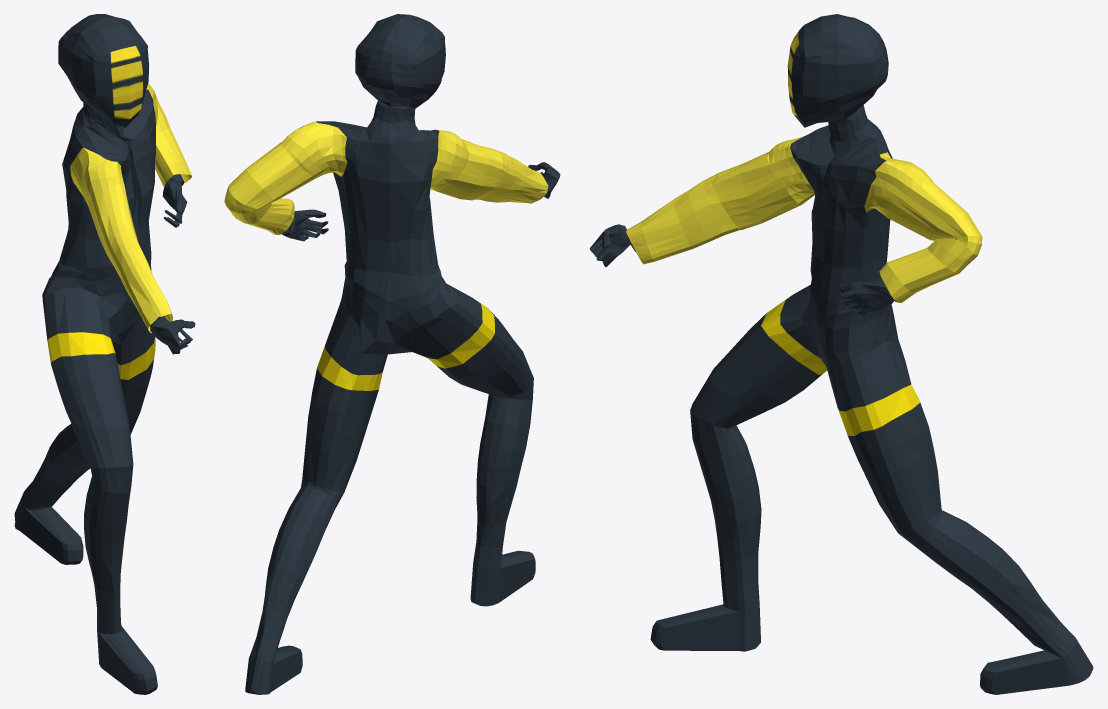
File: Sentry_Attack_000040.obj
3 renders of one model, left to right at view 1: azimuth 30°, elevation 25°; view 2: azimuth 150°, elevation 25°; view 3: azimuth 270°, elevation 25°, orthographic. The views are drawn at different scales.
Parts seen in each view (by area): view 1: Cube; view 2: Cube; view 3: Cube.
Boxes of the visible parts, left/top/right/bottom form: Cube: left=14, top=14, right=195, bottom=694; Cube: left=224, top=14, right=560, bottom=694; Cube: left=589, top=14, right=1093, bottom=694.
Bounding box in the file's own units: 1.19 × 3.61 × 2.53.
